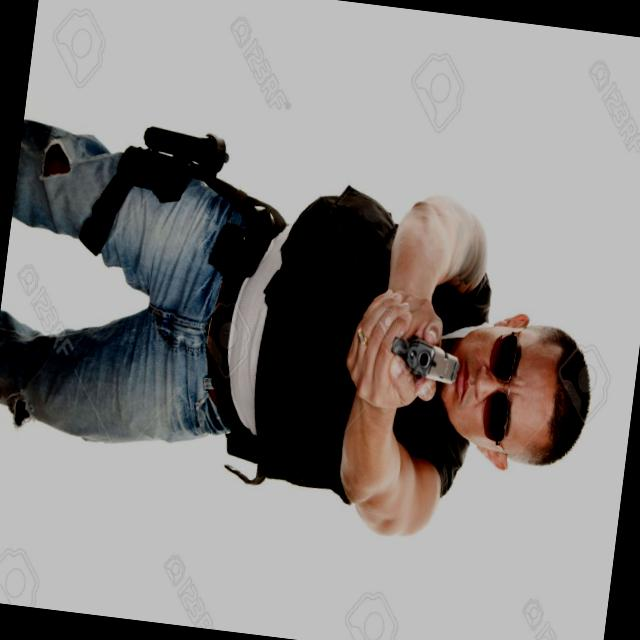handgun: (382, 324, 466, 394)
